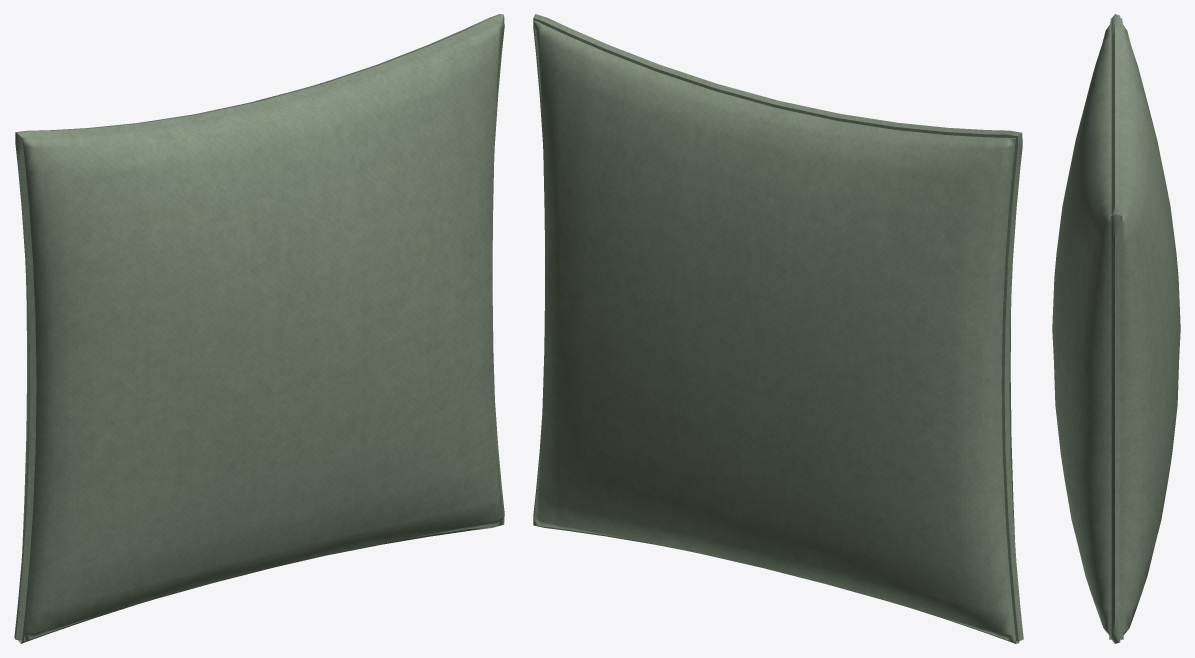
The model's file is ap_pillow_square.fbx.
3 renders of one model, left to right at view 1: azimuth 30°, elevation 25°; view 2: azimuth 150°, elevation 25°; view 3: azimuth 270°, elevation 25°, orthographic. The views are drawn at different scales.
Visible parts, largest first — view 1: ap_pillow_square; view 2: ap_pillow_square; view 3: ap_pillow_square.
Boxes of the visible parts, bbox=[...] form: ap_pillow_square: bbox=[14, 14, 504, 643]; ap_pillow_square: bbox=[533, 14, 1023, 643]; ap_pillow_square: bbox=[1052, 14, 1180, 643].
Bounding box in the file's own units: 0.4576 × 0.4575 × 0.1236.
Materials: 1 (1 with a texture image).
